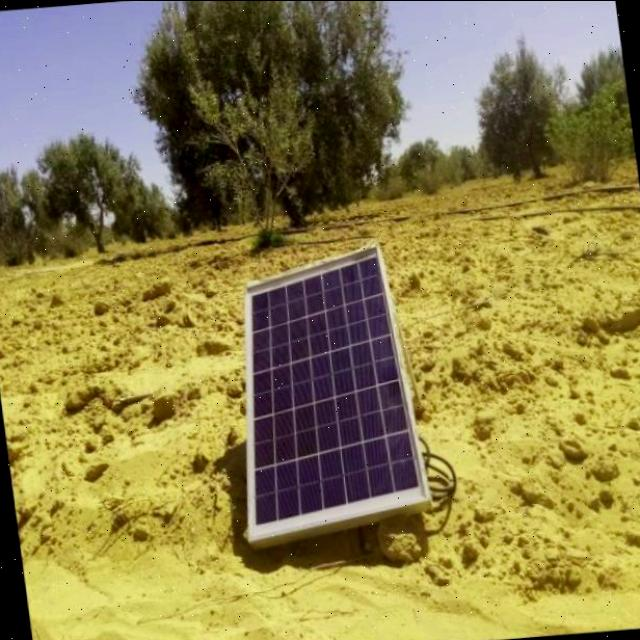Normal Solar Panel: (210, 241, 427, 537)
